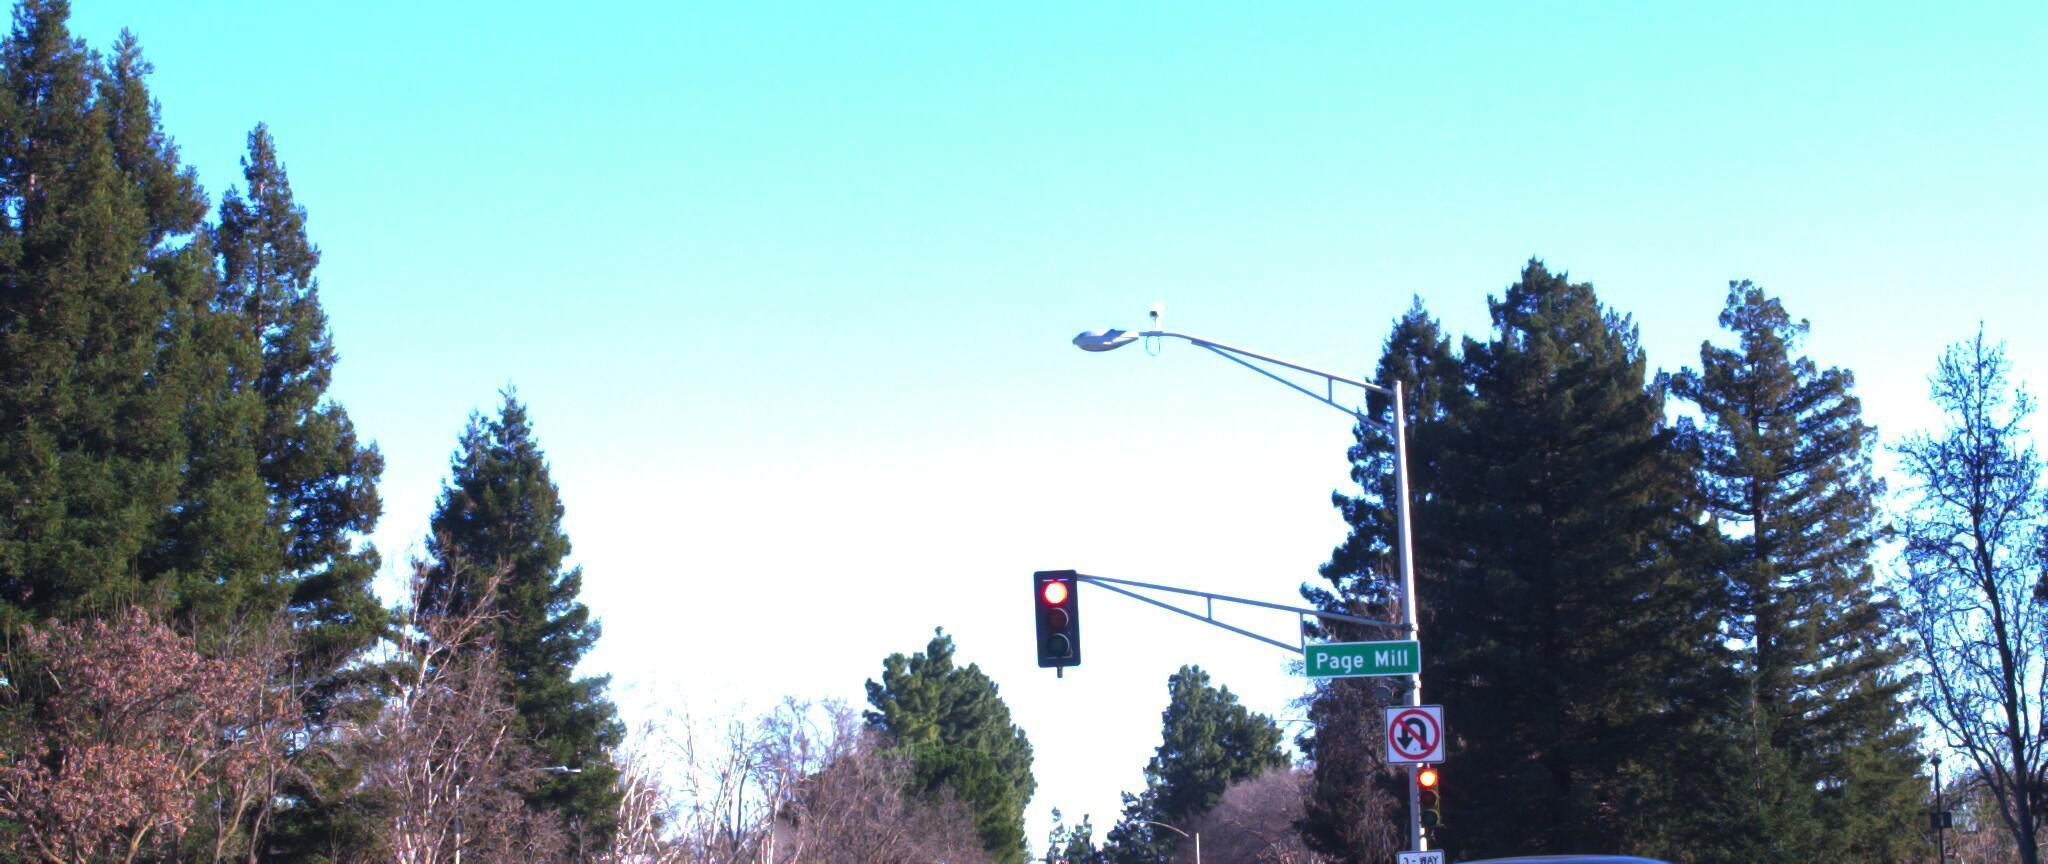car: (1172, 799, 2021, 864)
